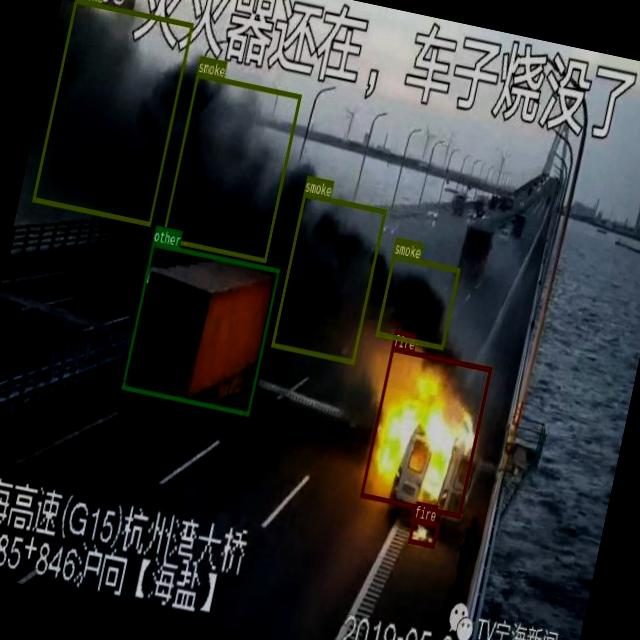fire: (359, 346, 491, 517), (406, 517, 438, 547)
smoke: (31, 0, 192, 225), (160, 71, 300, 262), (270, 190, 386, 362), (374, 252, 459, 348)
